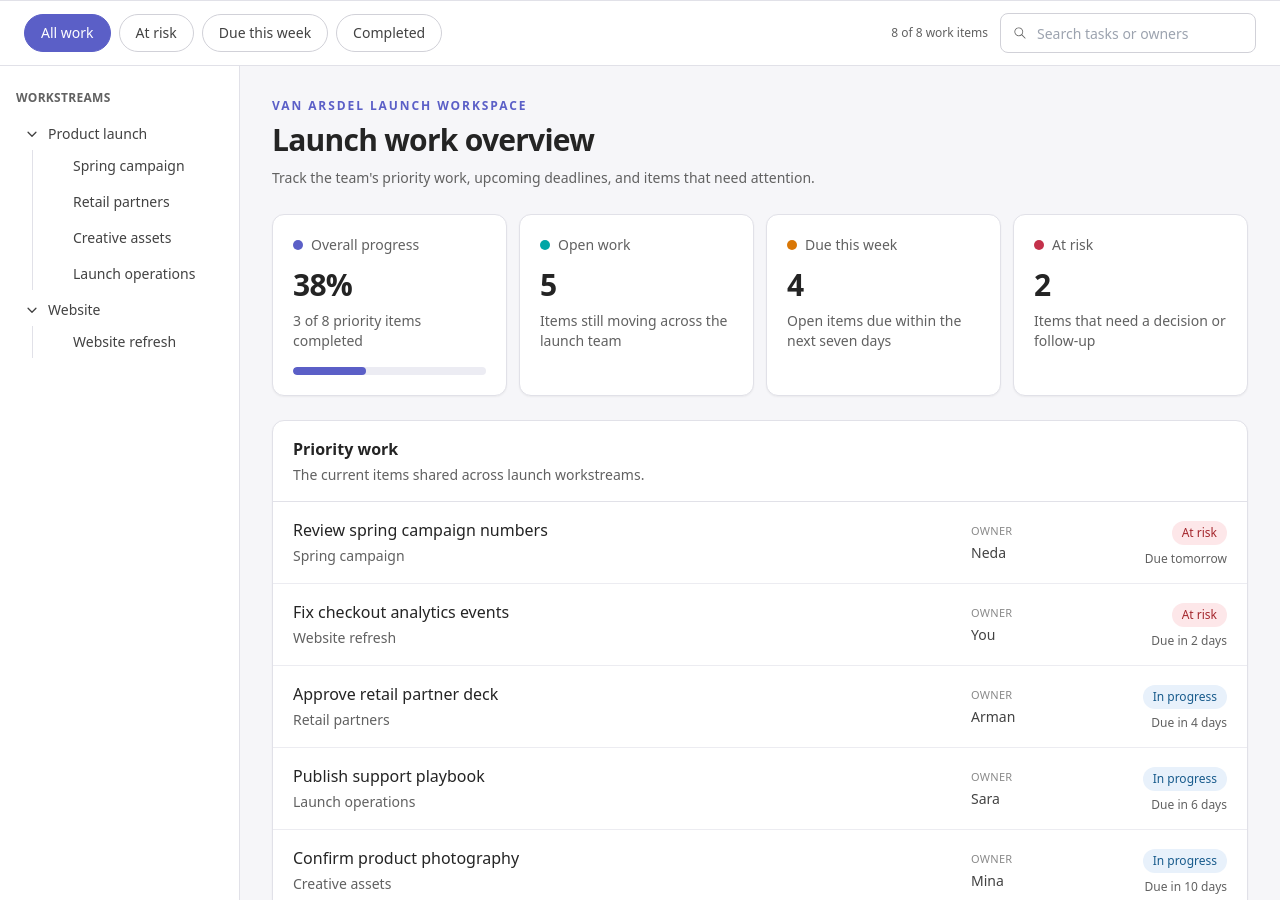
Test: filters at-risk work and searches by owner
The image size is (1280, 900).
Check: the text "8 of 8 work items" is shown, box [891,25,988,41]
Step 1. Click the button "At risk" → (156, 33), box [118,14,194,52]
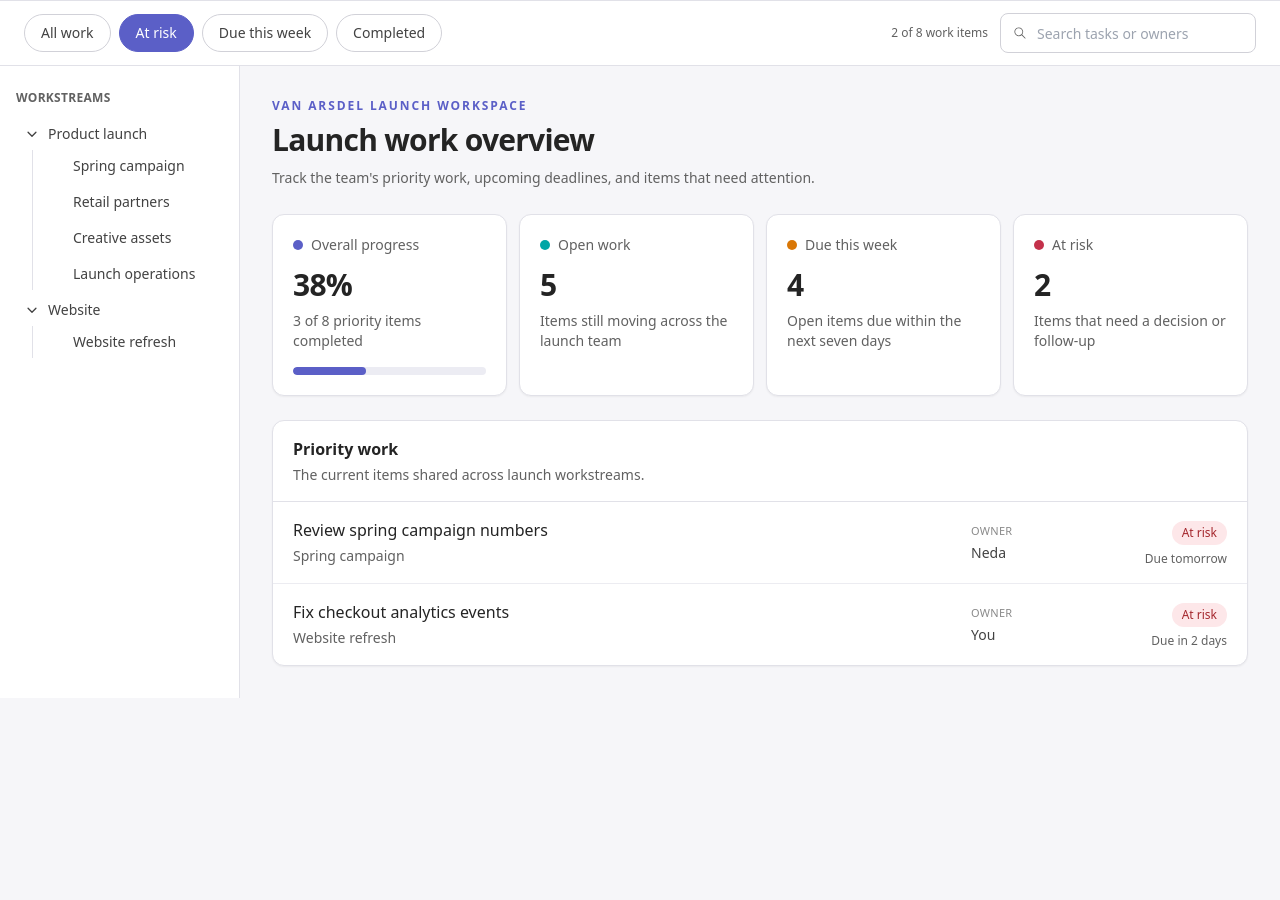
Check: the link "Review spring campaign numbers" is shown, box [293,519,548,541]
Check: the text "2 of 8 work items" is shown, box [891,25,988,41]
Check: the link "Approve retail partner deck" is gone
Step 2. Type "You" into the search field labelled "Search tasks or owners" → (1128, 33), box [1000,13,1256,53]
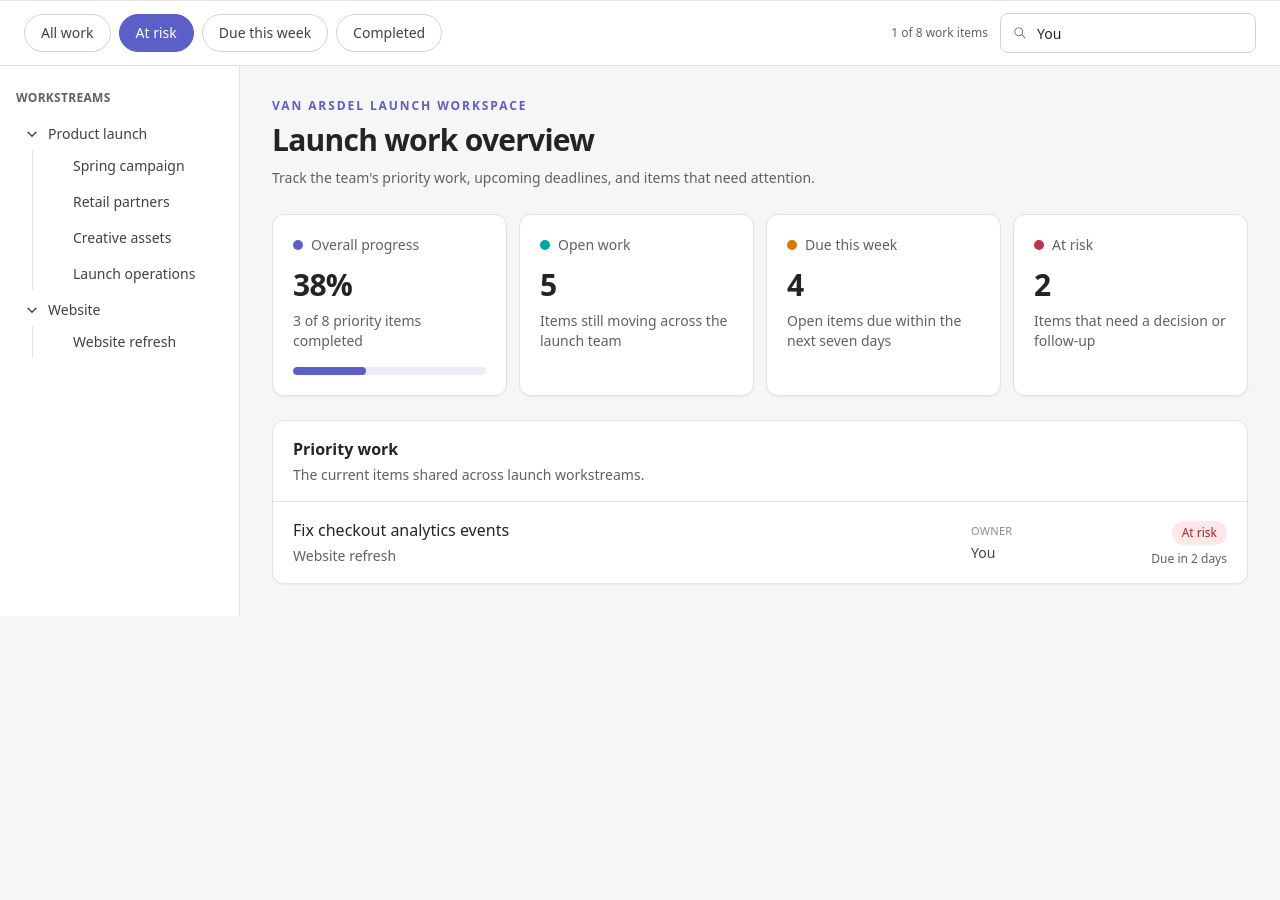
Check: the link "Fix checkout analytics events" is shown, box [293,519,509,541]
Check: the text "1 of 8 work items" is shown, box [891,25,988,41]
Check: the link "Review spring campaign numbers" is gone
